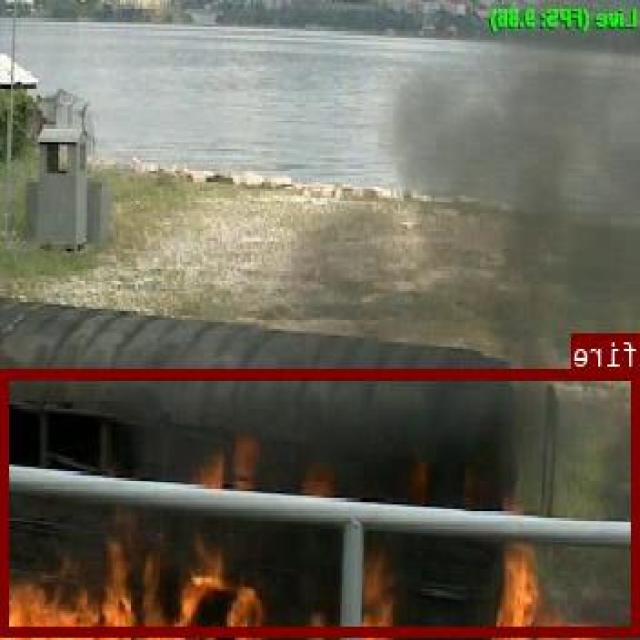fire: (4, 366, 640, 633)
